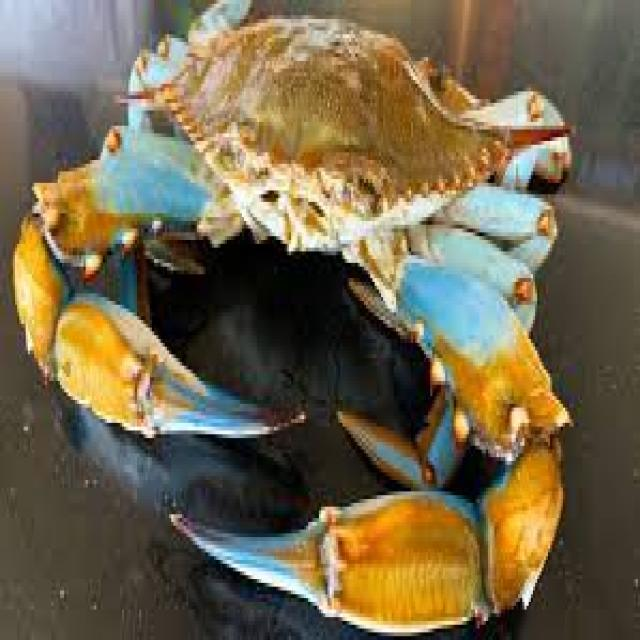crab: (154, 44, 488, 392)
